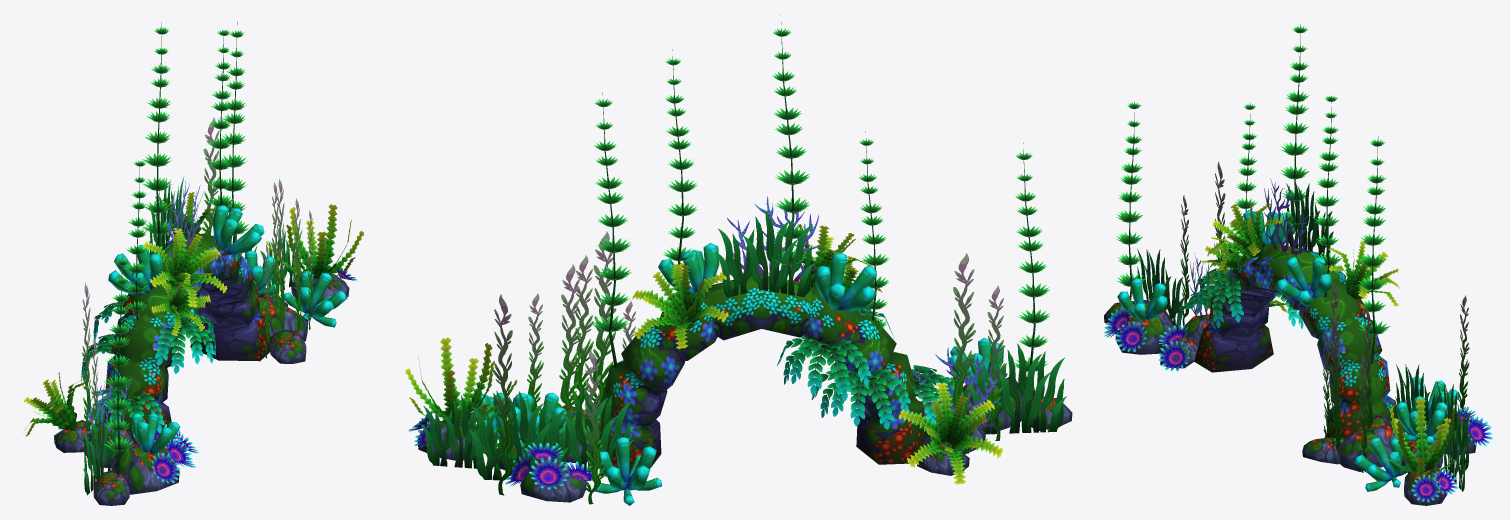
Rendered from Coral_Arch.FBX.
3 renders of one model, left to right at view 1: azimuth 30°, elevation 25°; view 2: azimuth 150°, elevation 25°; view 3: azimuth 270°, elevation 25°, orthographic. The views are drawn at different scales.
Parts seen in each view (by area): view 1: A1; view 2: A1; view 3: A1.
Part boxes in pixels (x1,y1,x2,y2): A1: (23, 21, 363, 505); A1: (405, 15, 1072, 505); A1: (1104, 24, 1493, 505).
Bounding box in the file's own units: 790 × 683 × 642.
